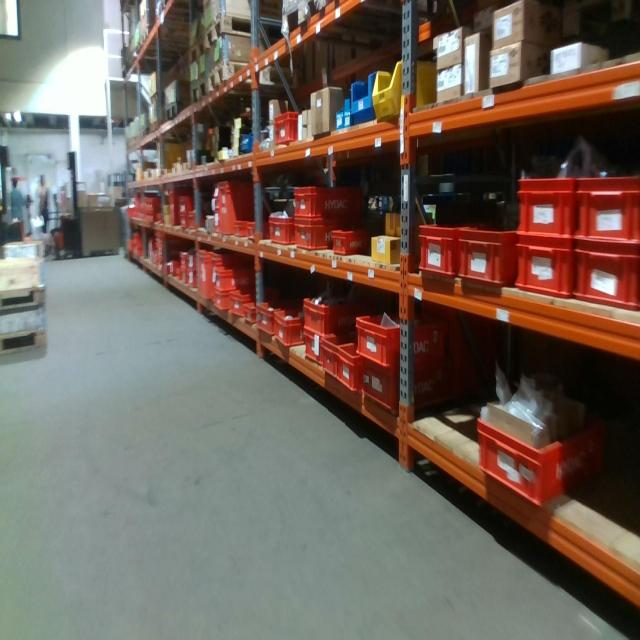pallet: (204, 10, 291, 54), (206, 60, 260, 97), (281, 2, 332, 40), (1, 283, 46, 319), (1, 325, 48, 359), (188, 34, 208, 66), (189, 79, 206, 110), (166, 97, 186, 123), (150, 115, 163, 133), (151, 89, 163, 102)
pallet_truck: (51, 146, 85, 260), (1, 146, 28, 244), (50, 185, 63, 231)
small_load_carrier: (477, 415, 608, 507), (358, 309, 450, 367), (362, 353, 448, 415), (513, 229, 582, 306), (572, 242, 640, 318), (575, 173, 638, 242), (514, 173, 576, 240), (457, 228, 518, 288), (294, 185, 368, 225), (216, 180, 264, 239), (417, 225, 469, 278), (210, 249, 247, 309), (302, 294, 356, 331), (339, 339, 375, 394), (292, 218, 333, 256), (328, 225, 368, 257), (275, 305, 303, 350), (211, 266, 252, 294), (322, 330, 342, 387), (273, 109, 298, 150), (198, 248, 214, 305), (300, 330, 325, 365), (168, 188, 188, 228), (257, 302, 278, 337), (230, 291, 254, 320), (268, 217, 291, 244), (188, 209, 208, 232), (232, 209, 247, 239), (211, 288, 231, 309), (248, 221, 262, 247), (243, 305, 257, 328), (178, 195, 194, 215), (179, 271, 192, 289), (179, 252, 189, 271), (213, 208, 220, 233), (210, 185, 219, 204), (188, 251, 196, 270), (179, 215, 188, 231), (189, 272, 196, 288)
